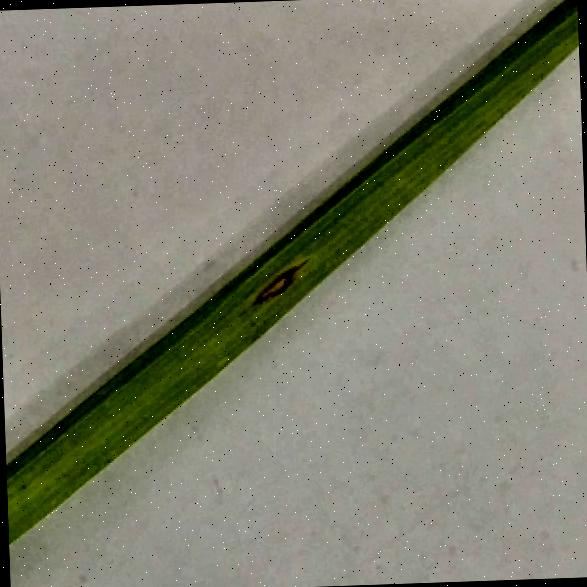Leaf_smut: (231, 234, 318, 315)
